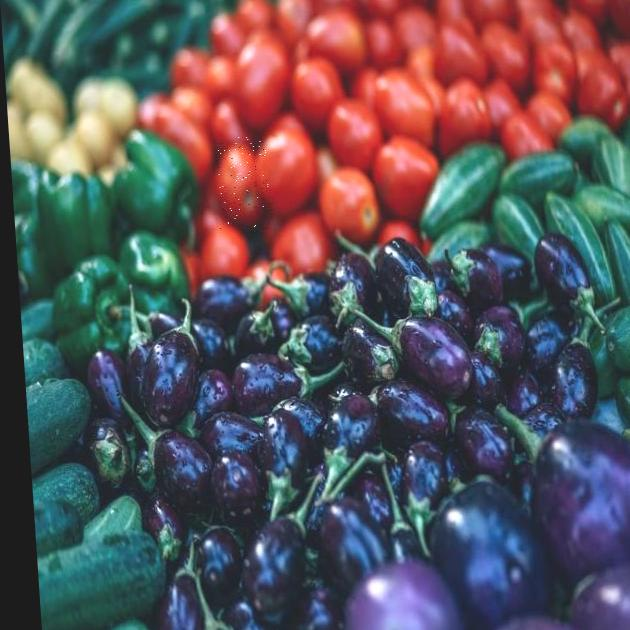Tomato: (214, 137, 273, 229), (314, 161, 384, 234)
